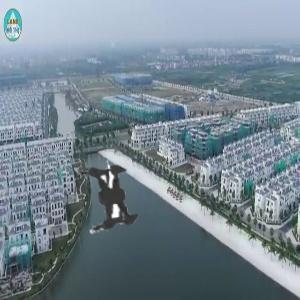drone: (5, 81, 223, 299)
